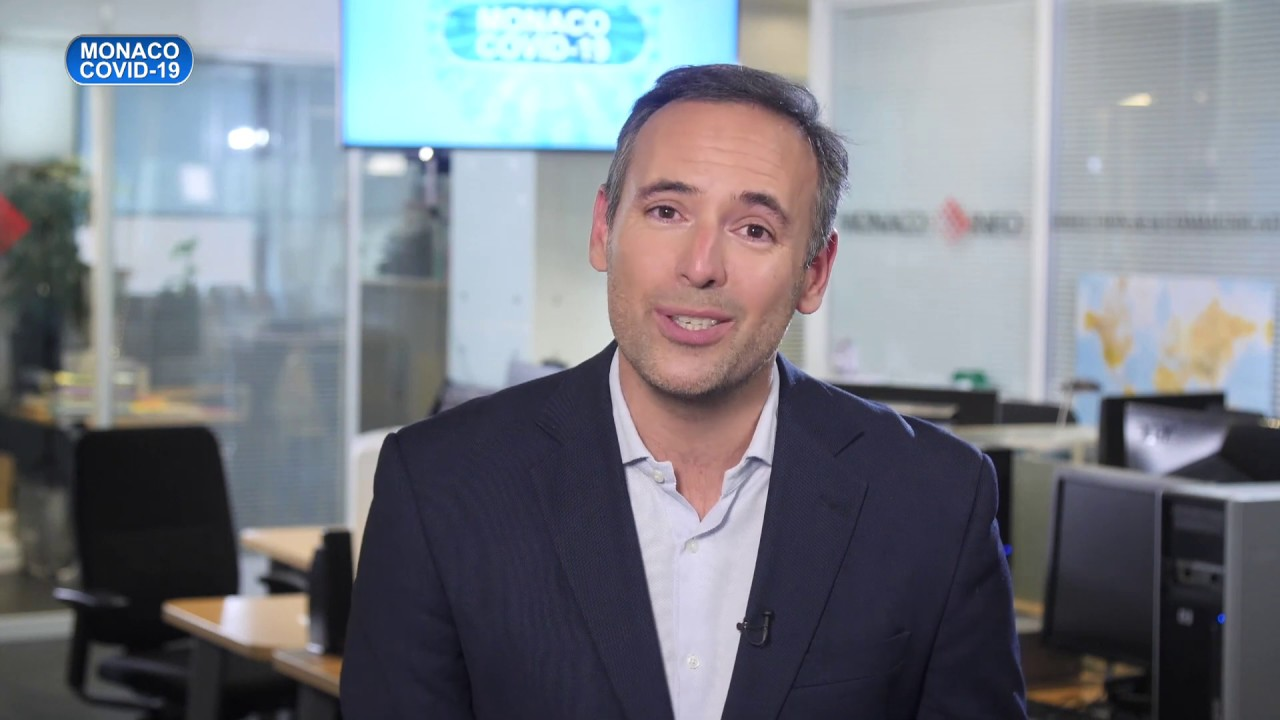without_mask: (632, 170, 779, 384)
